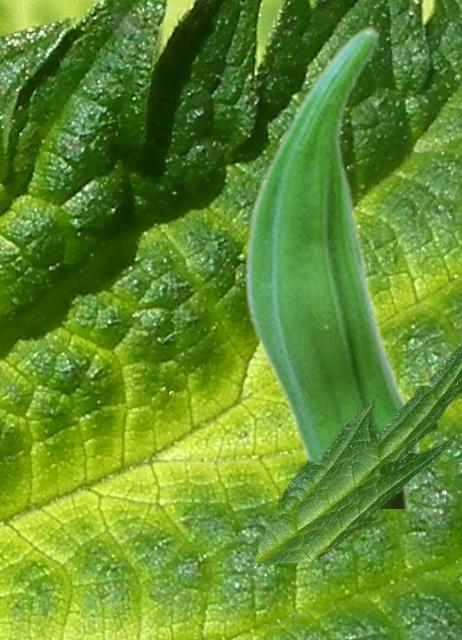okra: (243, 23, 417, 507)
